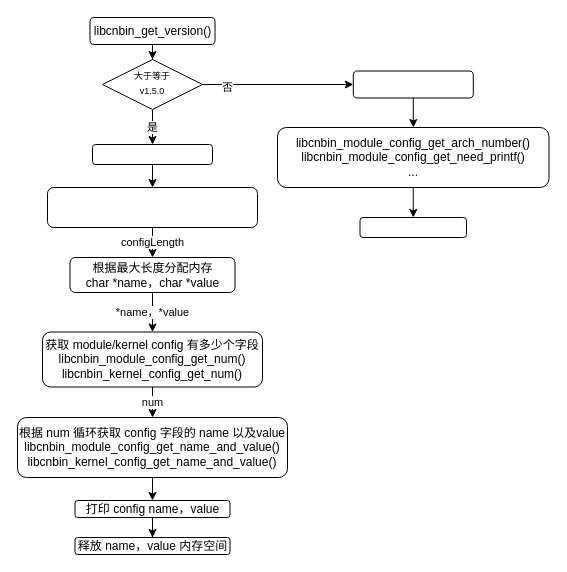
Image size: 567x572. Some labels were removed from this diagram. Here are the shapes that lost their labels. From the top down, the centre of each, then its label:
At (412,84): "printConfigInfoV1".
At (152,154): "printConfigInfoV2".
At (152,207): "获取 config 字段的最大长度 libcnbin_get_max_config_length()".
At (412,227): "打印 config 字段".
